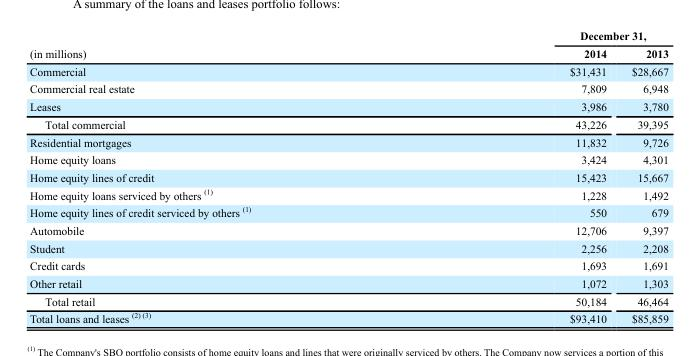table: (29, 29, 667, 324)
table column: (29, 29, 409, 324), (409, 29, 618, 324), (618, 29, 667, 324)
table column header: (29, 29, 667, 62)
table row: (29, 202, 667, 221), (29, 44, 667, 62), (29, 79, 667, 97), (29, 97, 667, 115), (29, 132, 667, 150), (29, 150, 667, 168), (29, 238, 667, 256), (29, 256, 667, 274), (29, 62, 667, 79), (29, 115, 667, 132), (29, 168, 667, 185), (29, 185, 667, 202), (29, 221, 667, 238), (29, 274, 667, 291), (29, 291, 667, 308), (29, 308, 667, 324), (29, 29, 667, 44)
table spanning cell: (29, 29, 409, 62), (409, 29, 667, 44)
